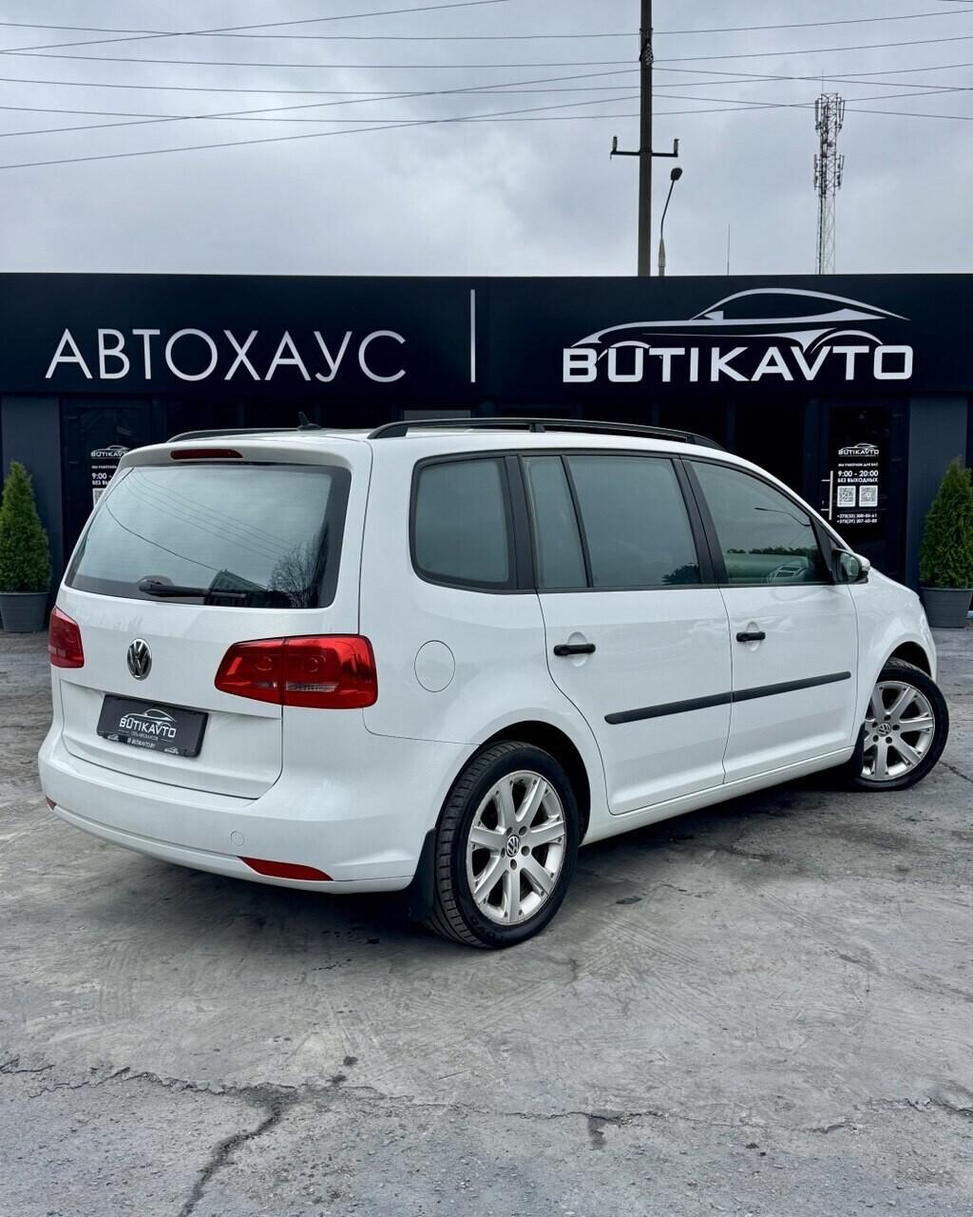Touran_2010-2015: (35, 418, 950, 944)
